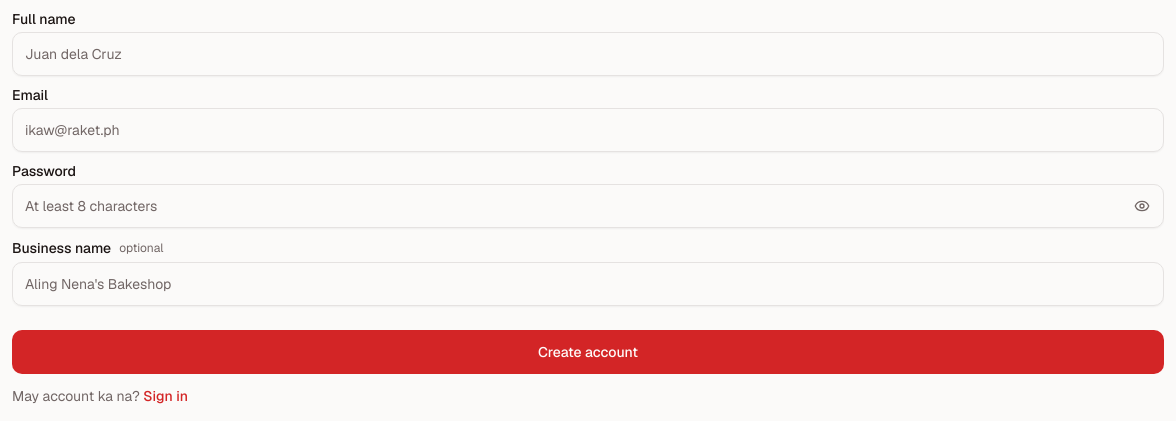
Test: RegisterForm › swaps to a check-your-inbox state when confirmation is required
Step 1. Click the button "Create account" → (588, 352), box [12,330,1164,374]
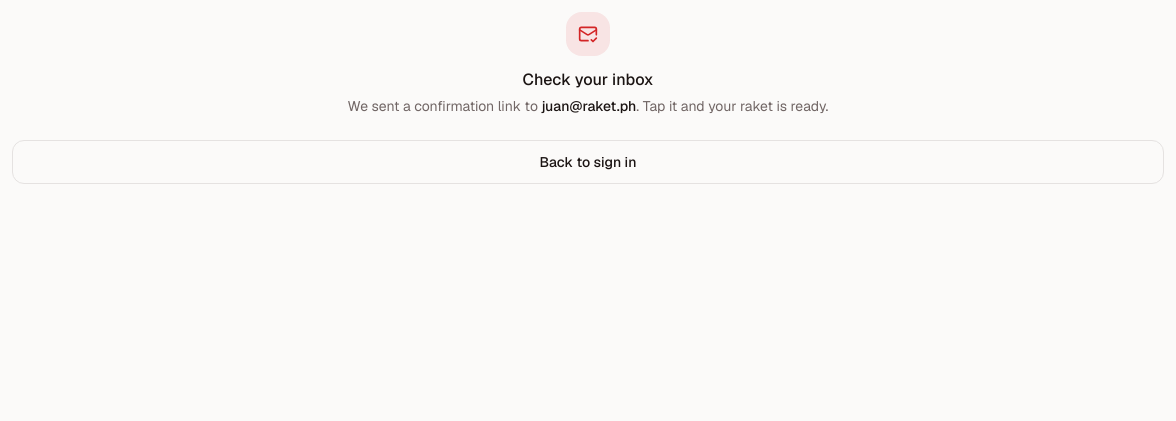
expect the heading "Check your inbox" is shown: met, box [523,69,653,90]
expect the text "juan@raket.ph" is shown: met, box [541,97,636,115]
expect the label labelled "Email" is gone: met
